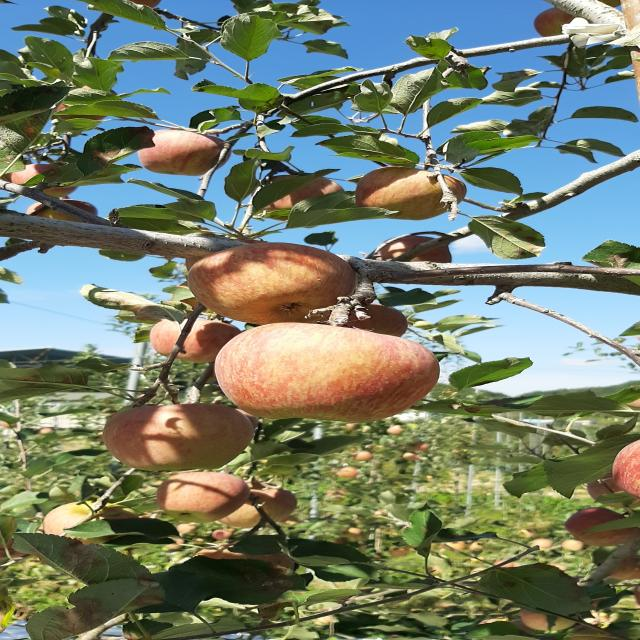fresh: (201, 316, 463, 431)
